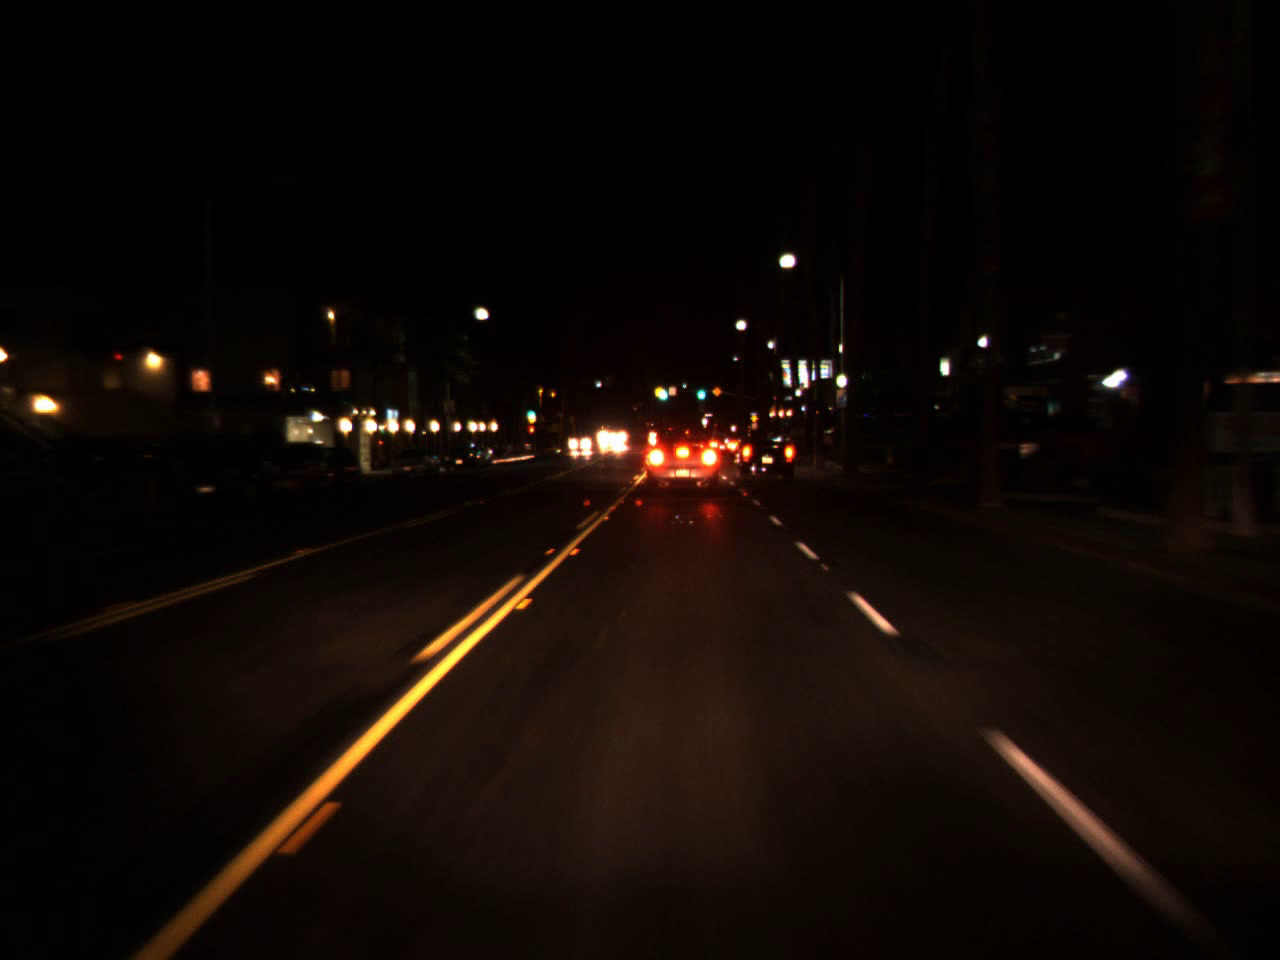go: (654, 377, 670, 404), (694, 379, 706, 403), (522, 403, 538, 418)
